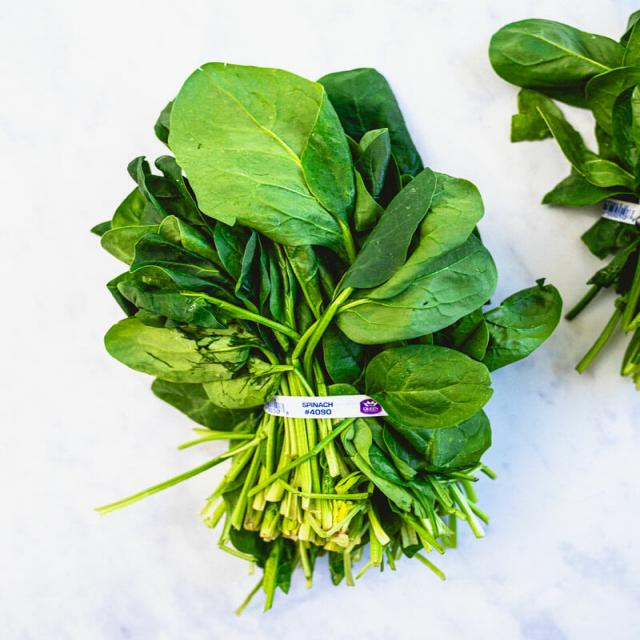Spinach bagged/loose: (167, 58, 353, 261), (344, 165, 495, 342), (357, 339, 496, 428), (487, 15, 597, 91)
